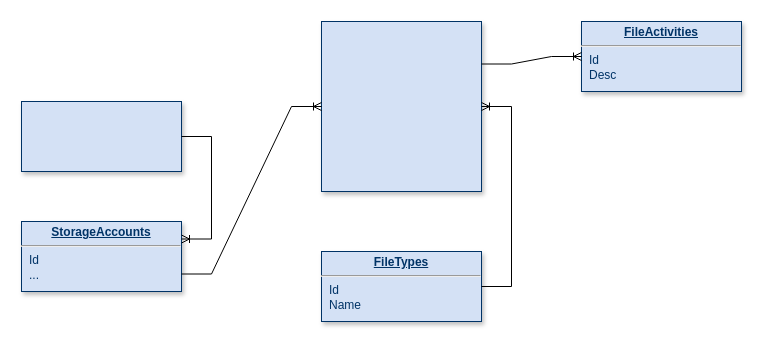
Some shapes in this 765 by 346 pixel diagram are drawn without their labels. Here are the shapes that lost their labels. From the top down, the centre of each, then its label:
point (402, 107): Files Id TypeId ParentFileId Name Size OwnerId Created Modified Description
point (102, 137): User Id ...
